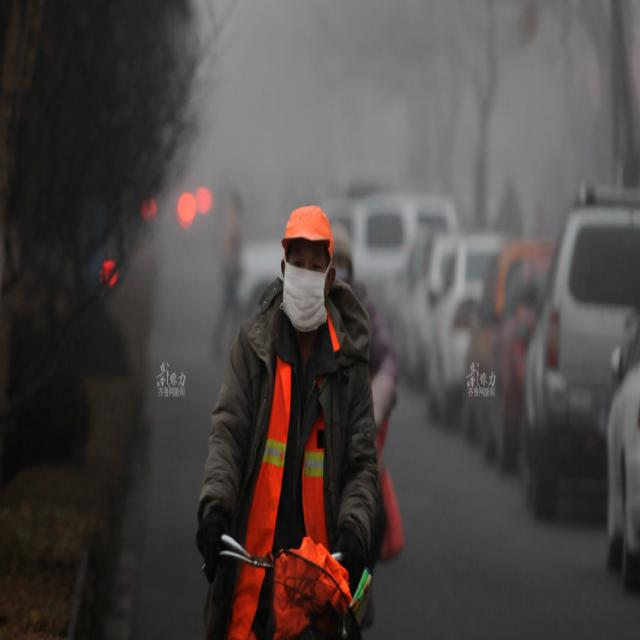mask: (285, 239, 324, 334)
